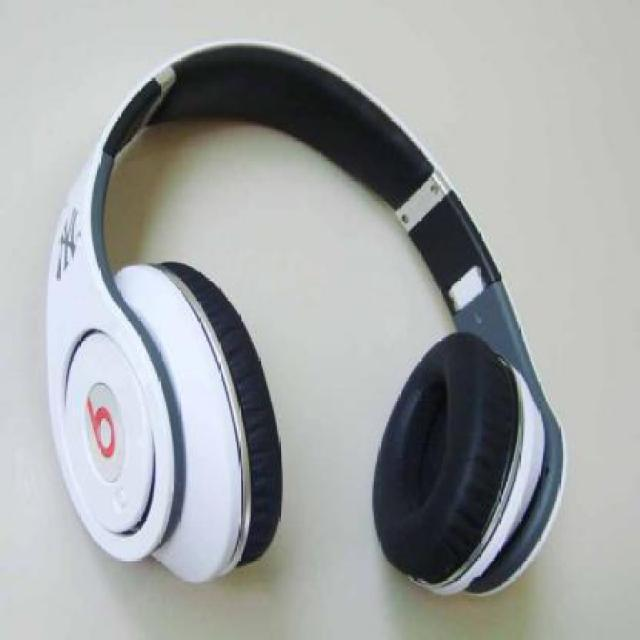earphone: (20, 21, 605, 622)
